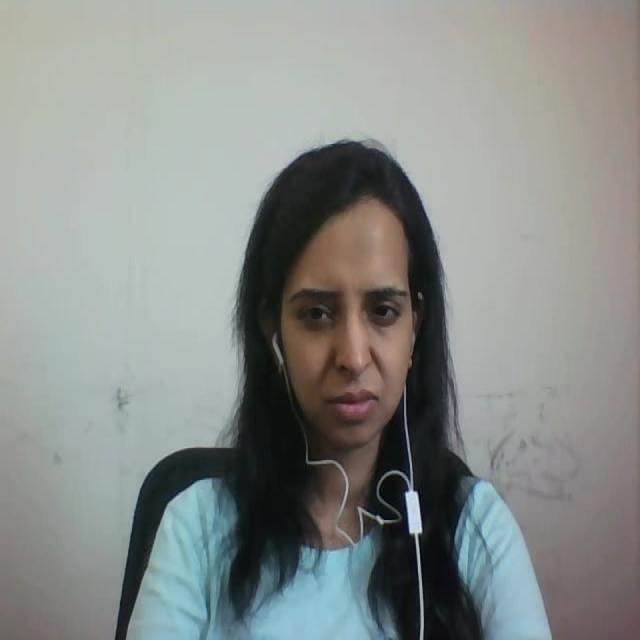Engaged: (206, 106, 468, 457)
